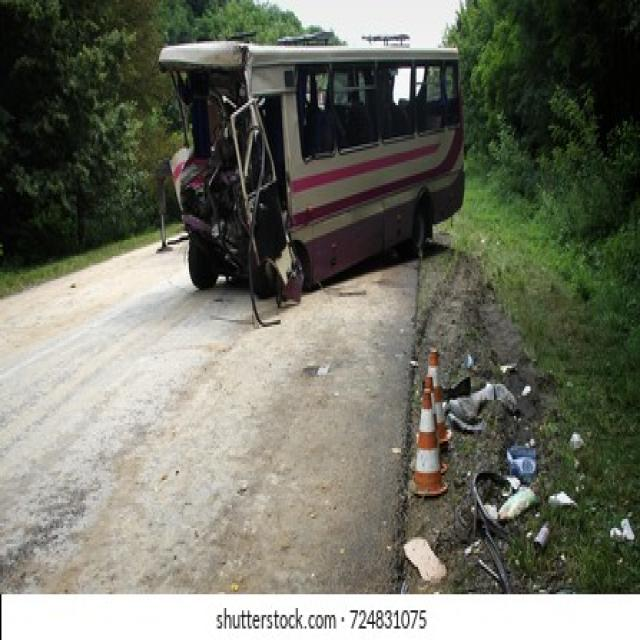Accident: (154, 13, 472, 330)
